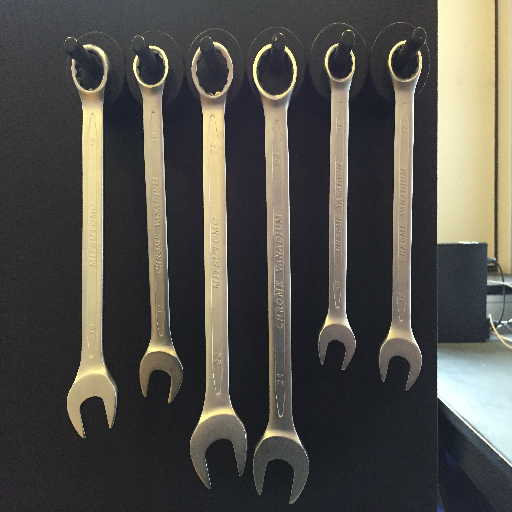bottom: (188, 409, 248, 493), (64, 366, 125, 441), (251, 429, 310, 505), (137, 349, 189, 405), (375, 336, 425, 392), (317, 323, 359, 373)
top: (251, 42, 301, 106), (188, 37, 235, 101), (67, 41, 113, 96), (130, 42, 171, 93), (384, 37, 424, 88), (321, 37, 358, 87)
